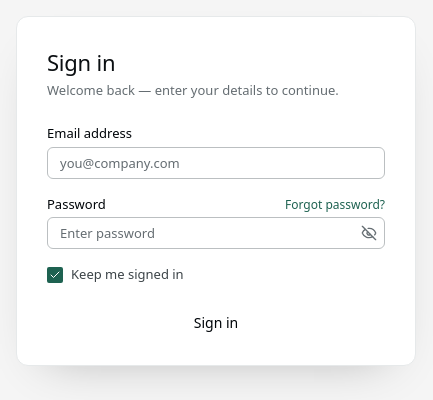
LoginPage › keeps the native password field editable and reveals it without changing its value
In the password field labelled "Password": (216, 233) [47,217,385,249], type "still-secret"
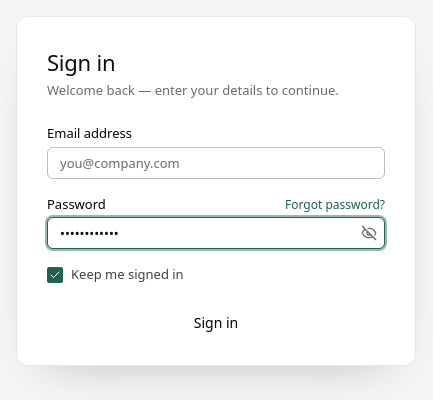
Type keys "{Backspace}{Backspace}et"
Click the button named "Show password": (369, 233) [358,222,380,244]
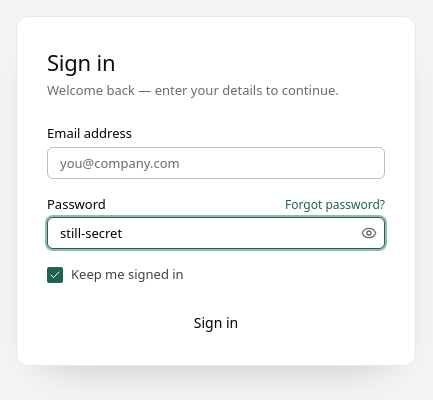
Now the field labelled "Password" shows its text, box [47,217,385,249]
Click the button named "Hide password": (369, 233) [358,222,380,244]
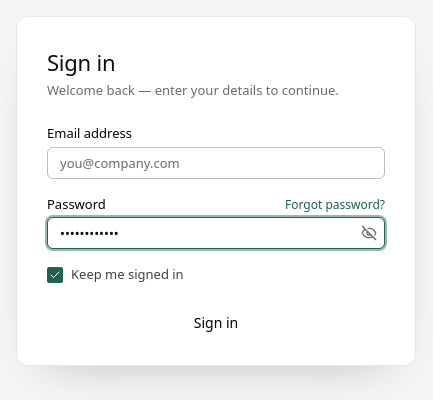
Now the password field labelled "Password" hides its text, box [47,217,385,249]
